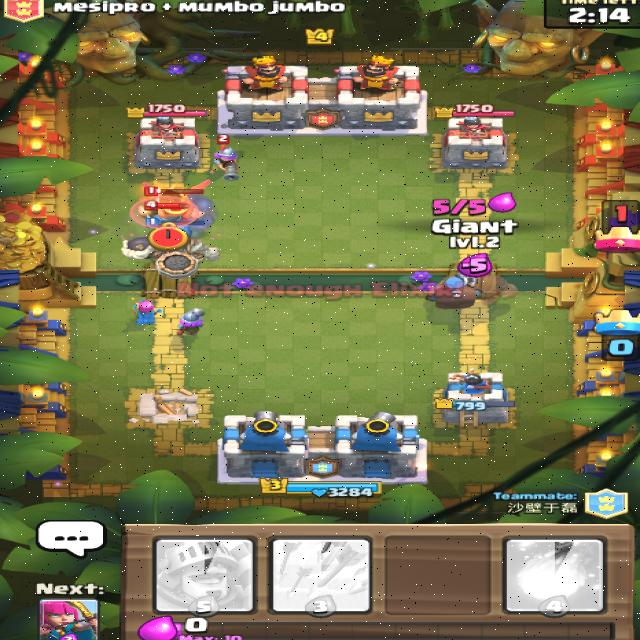Enemy-BabyDragon: (141, 179, 209, 218)
Enemy-Musketeer: (207, 133, 239, 181)
Player-Archer: (128, 296, 160, 325)
Player-GiantSkeleton: (119, 216, 220, 278)
Player-Hunter: (423, 272, 482, 308)
